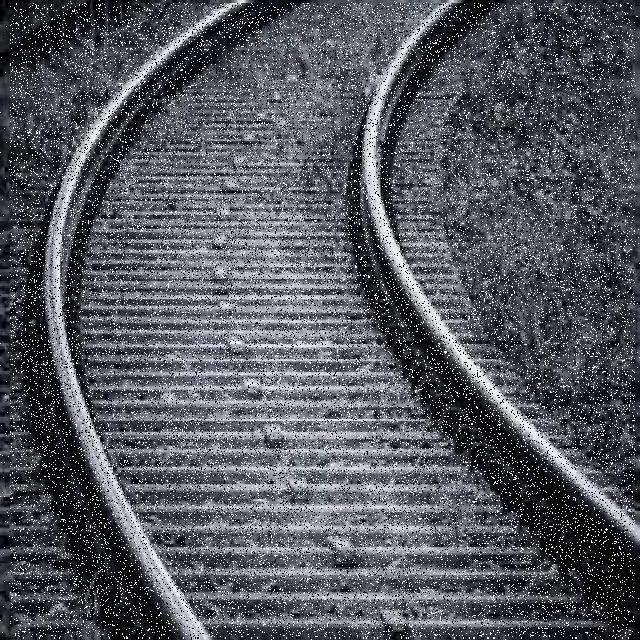rail: (12, 4, 636, 639)
